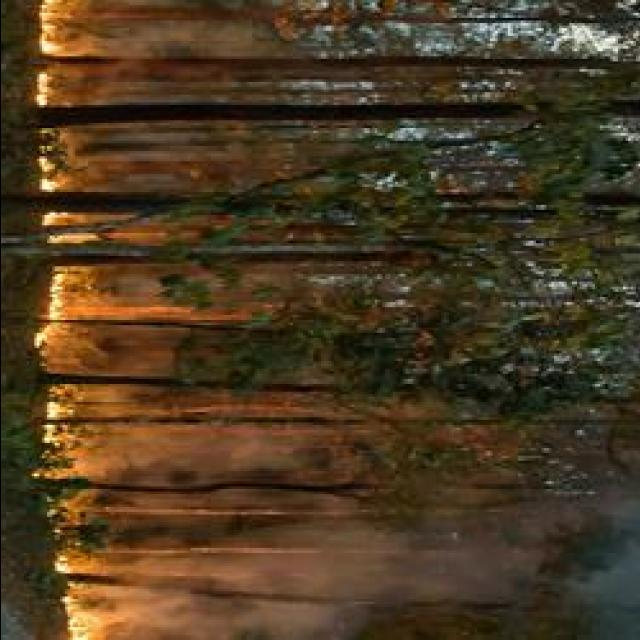fire: (36, 2, 56, 54), (67, 607, 97, 640), (48, 270, 66, 321), (32, 72, 46, 110), (36, 174, 58, 193), (35, 213, 65, 226), (44, 402, 56, 418)
smoke: (268, 542, 476, 594), (113, 601, 316, 640), (119, 424, 262, 468)
